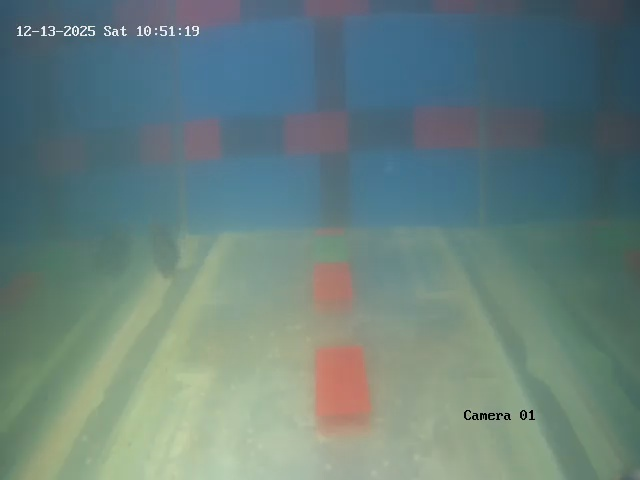fish: (143, 227, 190, 279)
